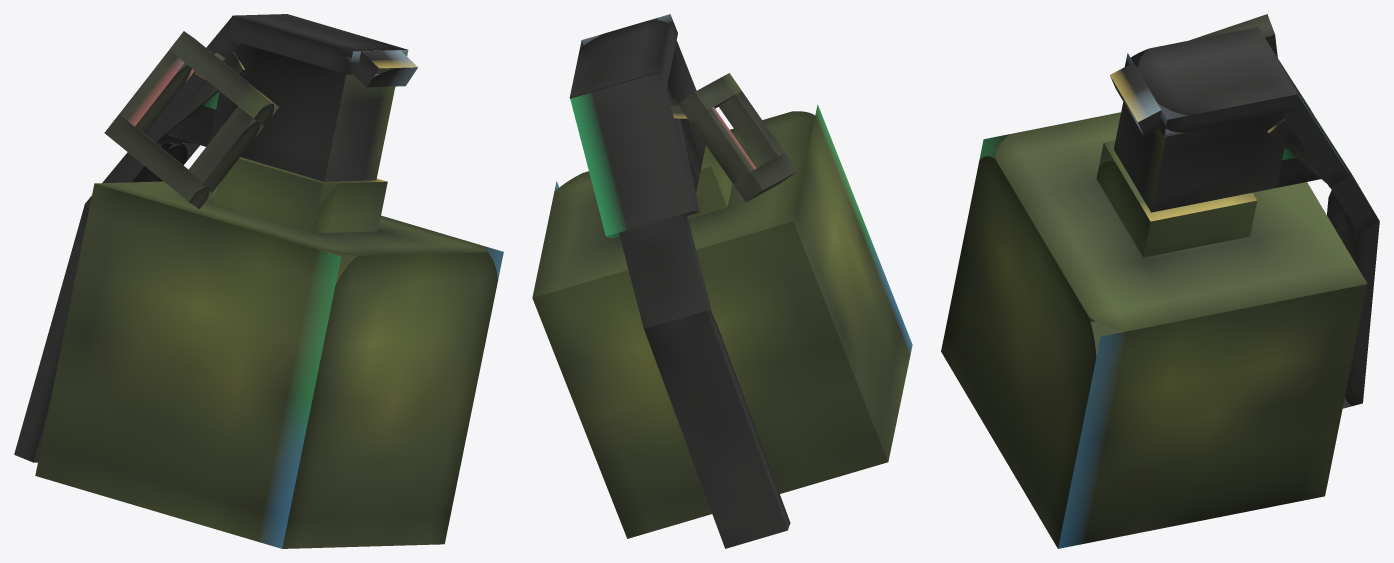
The model's file is grenade.fbx.
The picture shows the model from 3 angles, left to right: view 1: azimuth 30°, elevation 25°; view 2: azimuth 150°, elevation 25°; view 3: azimuth 270°, elevation 25°; orthographic projection. The views are drawn at different scales.
Parts seen in each view (by area): view 1: grenade, pin; view 2: grenade, pin; view 3: grenade, pin.
Boxes of the visible parts, box(x1,y1,x2,y2) form: grenade: box(14, 14, 503, 548); pin: box(104, 31, 278, 208); grenade: box(532, 14, 912, 548); pin: box(678, 73, 797, 201); grenade: box(941, 27, 1379, 548); pin: box(1189, 14, 1277, 57).
Size of the model in its own units: 49.51 by 54.95 by 46.56.
